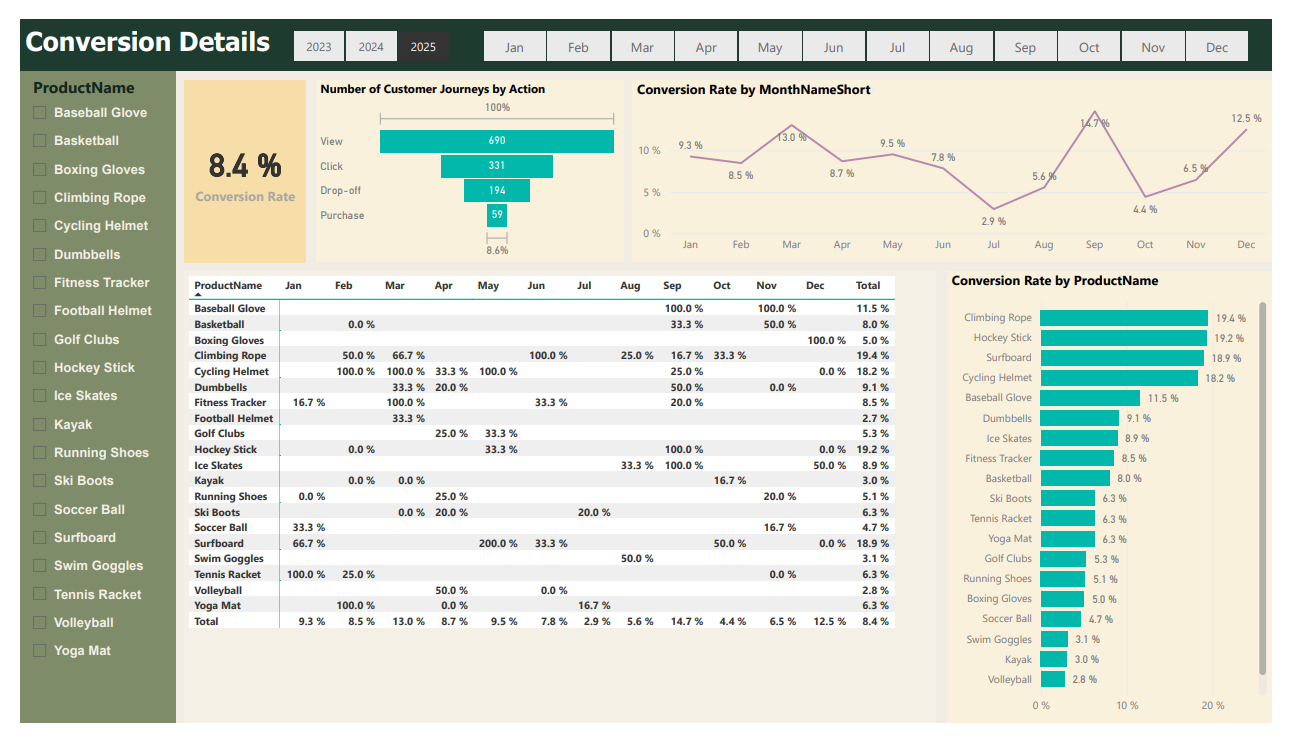

The page's visual inventory and layout, read from the dashboard file:
{"tool":"powerbi","page":{"name":"Conversion Details","canvas":[1280,720],"ordinal":1},"visuals":[{"type":"textbox","box":[0,0,1280,52.6],"z":0},{"type":"slicer","fields":{"Values":["dim_products.ProductName"]},"box":[0,52.7,159.3,667.3],"z":1000},{"type":"card","fields":{"Values":["_Calculations.Conversion Rate"]},"box":[168.5,61.9,123.8,186.7],"z":2000},{"type":"lineChart","fields":{"Category":["Calendar.MonthNameShort"],"Y":["_Calculations.Conversion Rate"]},"box":[626.2,62.3,653.8,186.2],"z":3000},{"type":"clusteredBarChart","fields":{"Category":["dim_products.ProductName"],"Y":["_Calculations.Conversion Rate"]},"box":[948,257.7,332.4,462.6],"z":4000},{"type":"slicer","fields":{"Values":["Calendar.Year"]},"box":[254,4.9,208.5,44.4],"z":5000},{"type":"slicer","fields":{"Values":["Calendar.MonthNameShort"]},"box":[447.7,4.9,832.3,43.7],"z":6000},{"type":"pivotTable","fields":{"Columns":["Calendar.MonthNameShort"],"Rows":["dim_products.ProductName"],"Values":["_Calculations.Conversion Rate"]},"box":[168.5,257.7,768.6,462.6],"z":7000},{"type":"funnel","fields":{"Category":["fact_customer_journey.Action"],"Y":["_Calculations.Number of Customer Journeys"]},"box":[301.5,62.3,315.4,186.2],"z":8000}]}

Visuals, with their boxes in screenshot pixels (x1, y1, x2, y2), scaled from the page's 1280x720 canvas onto the 1290x743 screenshot:
textbox: {"x1": 0, "y1": 0, "x2": 1289, "y2": 54}
slicer - dim_products.ProductName: {"x1": 0, "y1": 54, "x2": 161, "y2": 742}
card - _Calculations.Conversion Rate: {"x1": 170, "y1": 64, "x2": 295, "y2": 257}
lineChart - Calendar.MonthNameShort x _Calculations.Conversion Rate: {"x1": 631, "y1": 64, "x2": 1289, "y2": 256}
clusteredBarChart - dim_products.ProductName x _Calculations.Conversion Rate: {"x1": 955, "y1": 266, "x2": 1289, "y2": 742}
slicer - Calendar.Year: {"x1": 256, "y1": 5, "x2": 466, "y2": 51}
slicer - Calendar.MonthNameShort: {"x1": 451, "y1": 5, "x2": 1289, "y2": 50}
pivotTable - Calendar.MonthNameShort x dim_products.ProductName: {"x1": 170, "y1": 266, "x2": 944, "y2": 742}
funnel - fact_customer_journey.Action x _Calculations.Number of Customer Journeys: {"x1": 304, "y1": 64, "x2": 622, "y2": 256}
